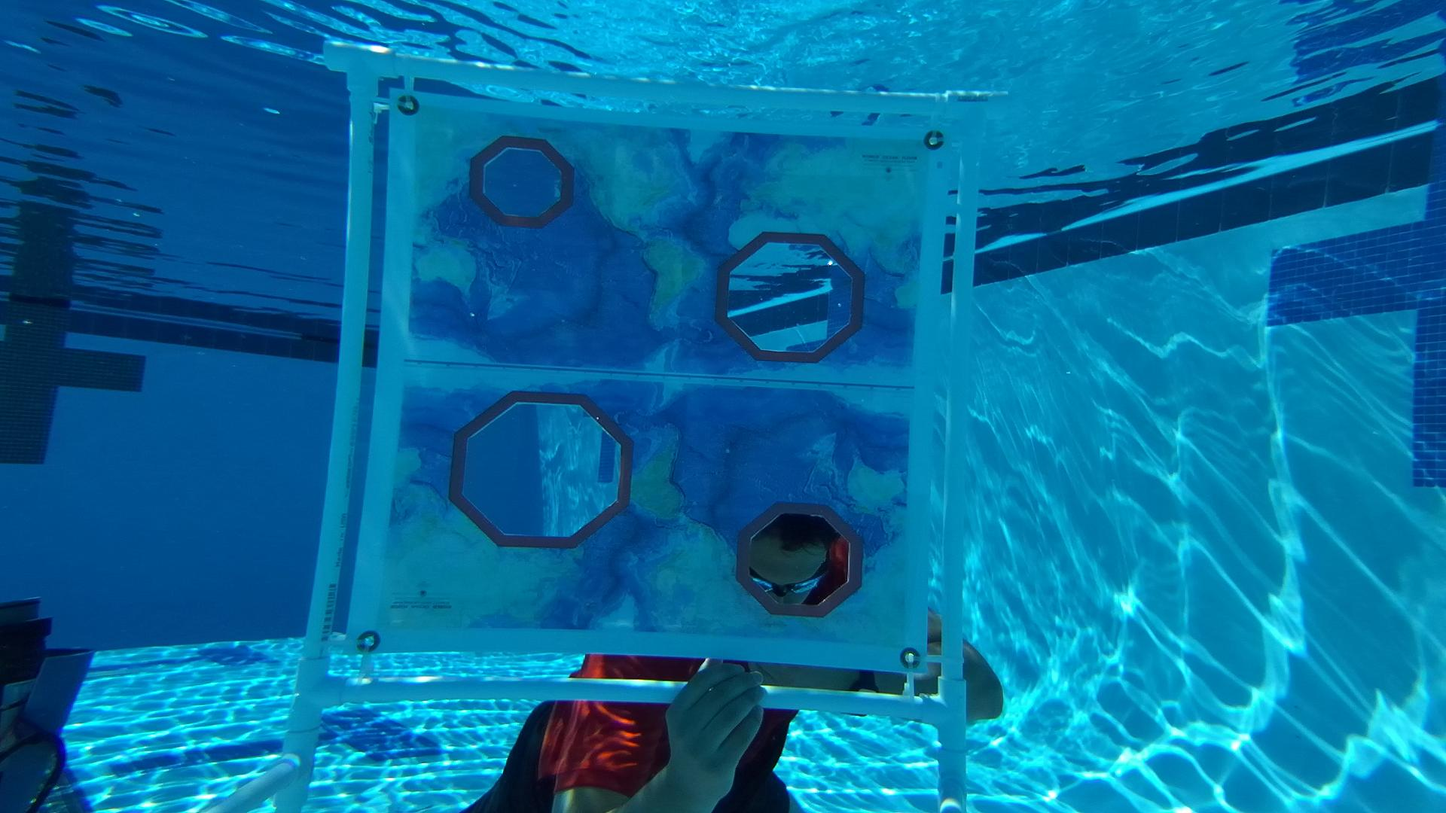red octagon: (446, 390, 634, 554), (716, 228, 864, 363), (725, 499, 864, 619), (463, 137, 570, 231)
